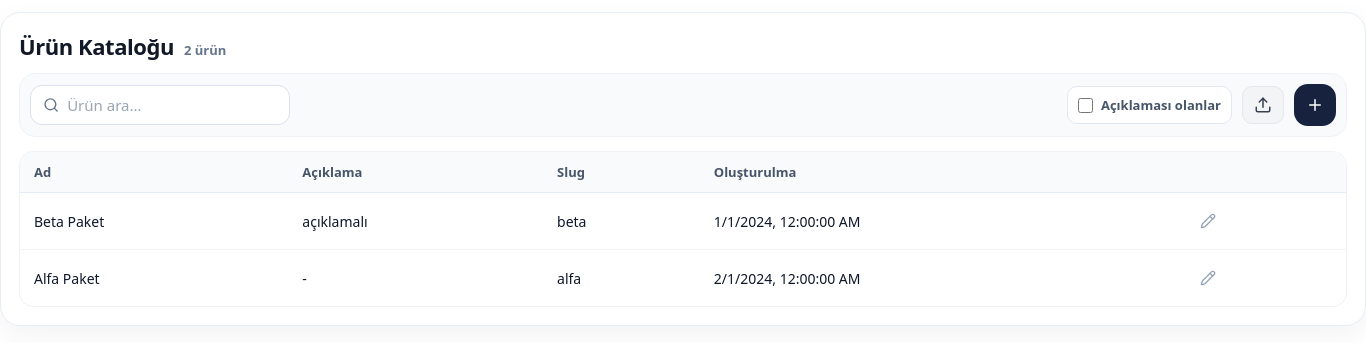
ProductList › filters to only products with a description
Check: the text "Beta Paket" is shown, box left=20, top=193, right=288, bottom=250
Click the text "Açıklaması olanlar" at (1161, 105), box left=1101, top=96, right=1221, bottom=114
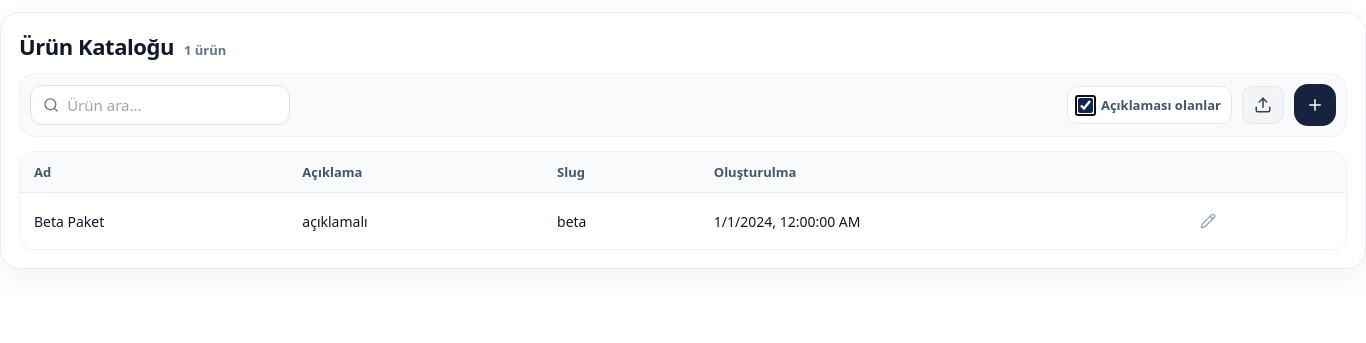
Check: the text "Beta Paket" is shown, box left=20, top=193, right=288, bottom=249
Check: the text "Alfa Paket" is gone
